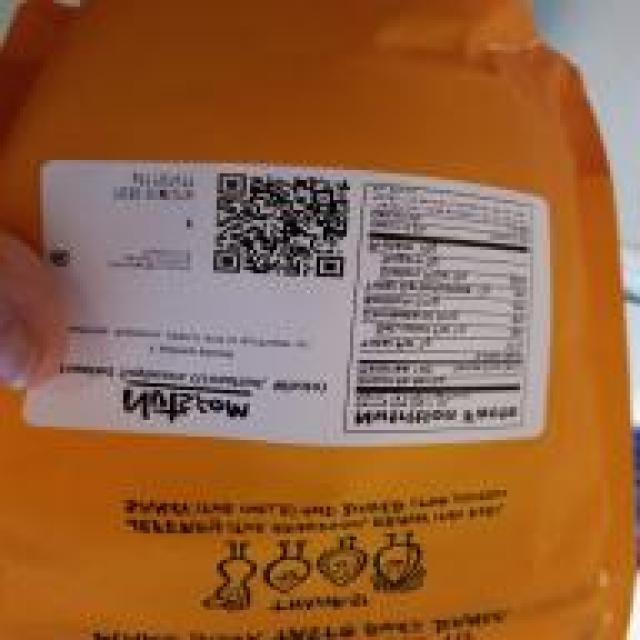qr_code: (212, 173, 351, 279)
